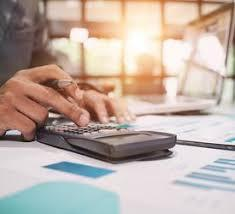Calculator: (29, 104, 182, 168)
